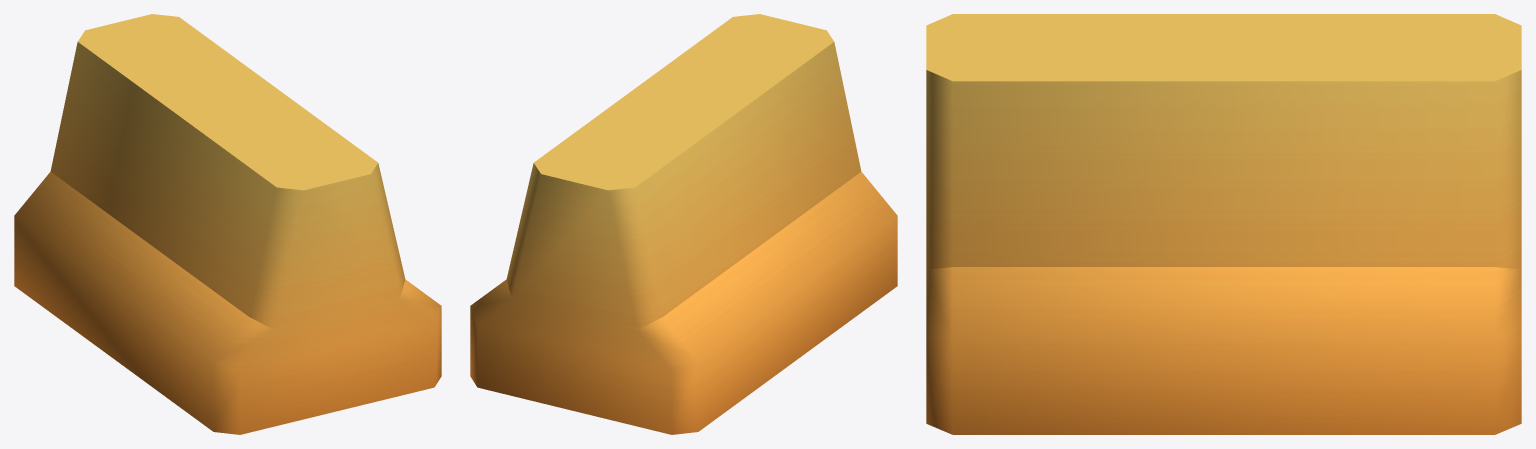
Rendered from obs_caltrops.glb.
3 renders of one model, left to right at view 1: azimuth 30°, elevation 25°; view 2: azimuth 150°, elevation 25°; view 3: azimuth 270°, elevation 25°, orthographic. The views are drawn at different scales.
Visible parts, largest first — view 1: obs_caltrops; view 2: obs_caltrops; view 3: obs_caltrops.
Part boxes in pixels (x1,y1,x2,y2): obs_caltrops: (14,14,441,434); obs_caltrops: (470,14,897,434); obs_caltrops: (926,14,1521,434).
Bounding box in the file's own units: 1.81 × 1.73 × 3.
Materials: 1 (1 with a texture image).
